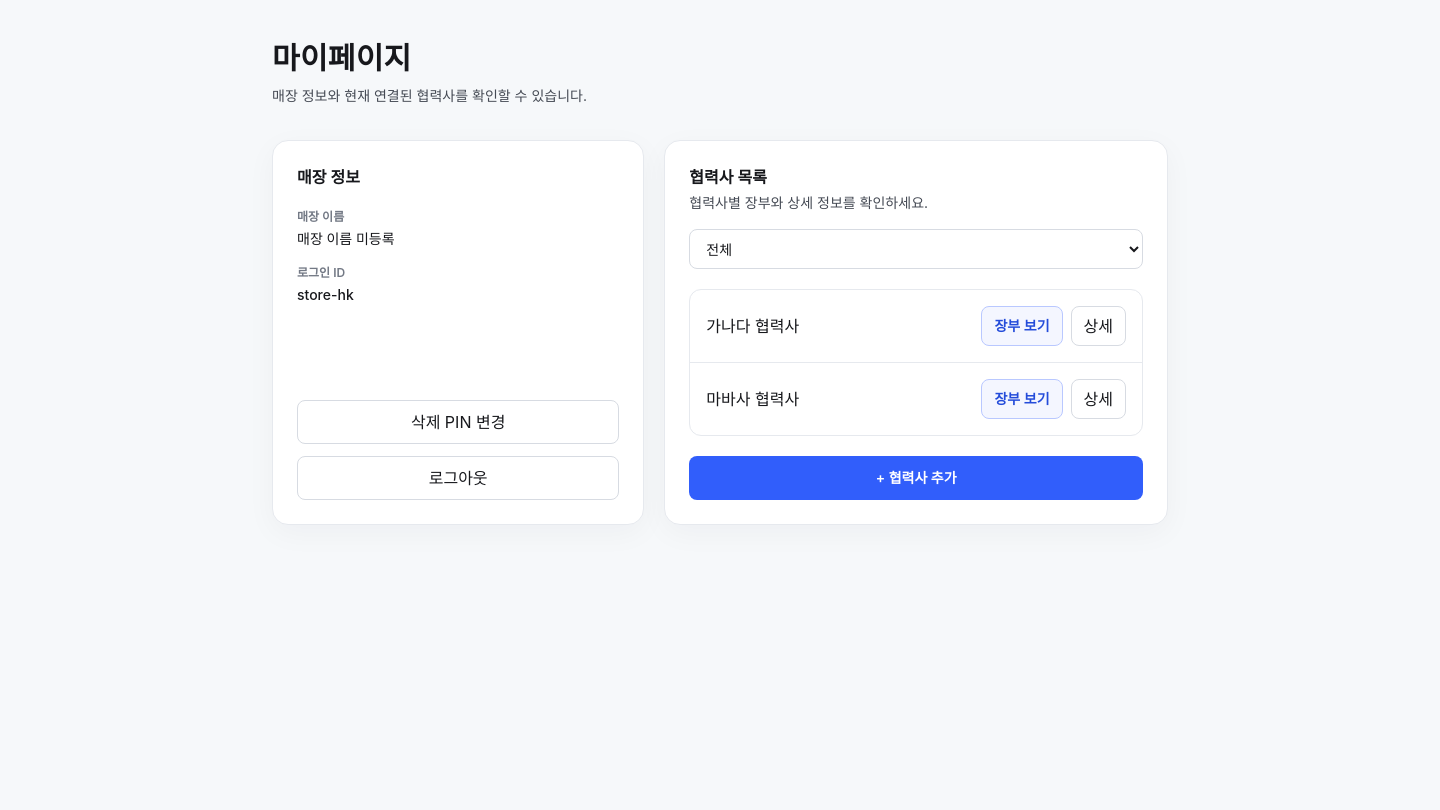
Test case: StoreProfileView › keeps cards to ledger and detail actions, then opens contact details in one modal
This screenshot has width=1440, height=810.
Expected: the text "매장 이름 미등록" is shown, [297,230,395,247]
Expected: the text "store-hk" is shown, [297,286,354,303]
Click the button "삭제 PIN 변경". click: coordinates (458, 422)
box: [297,400,619,444]
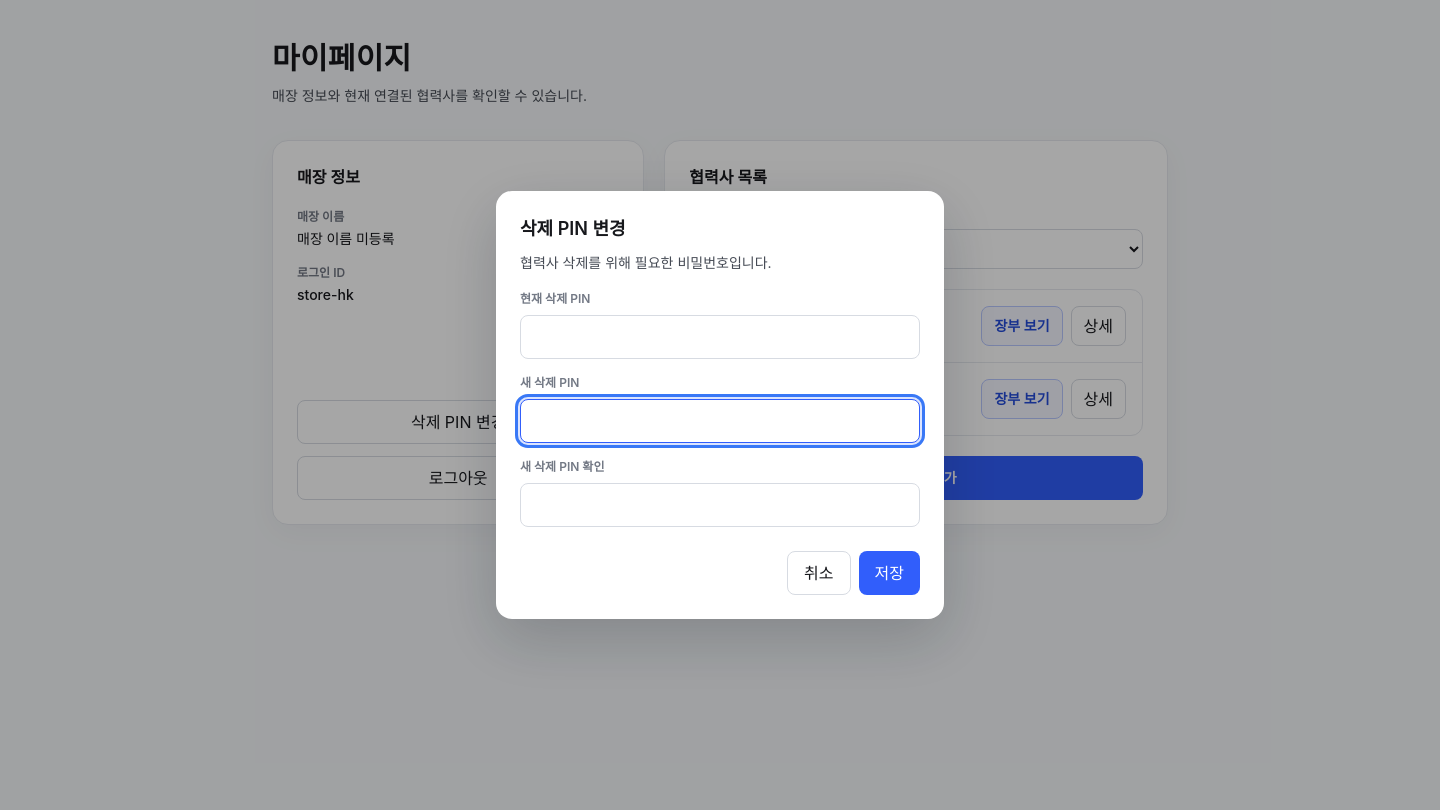
Expected: the dialog "삭제 PIN 변경" shows "협력사 삭제를 위해 필요한 비밀번호입니다.", [520,254,772,271]
Click the button "취소". click: coordinates (819, 573)
box: [787,551,851,595]
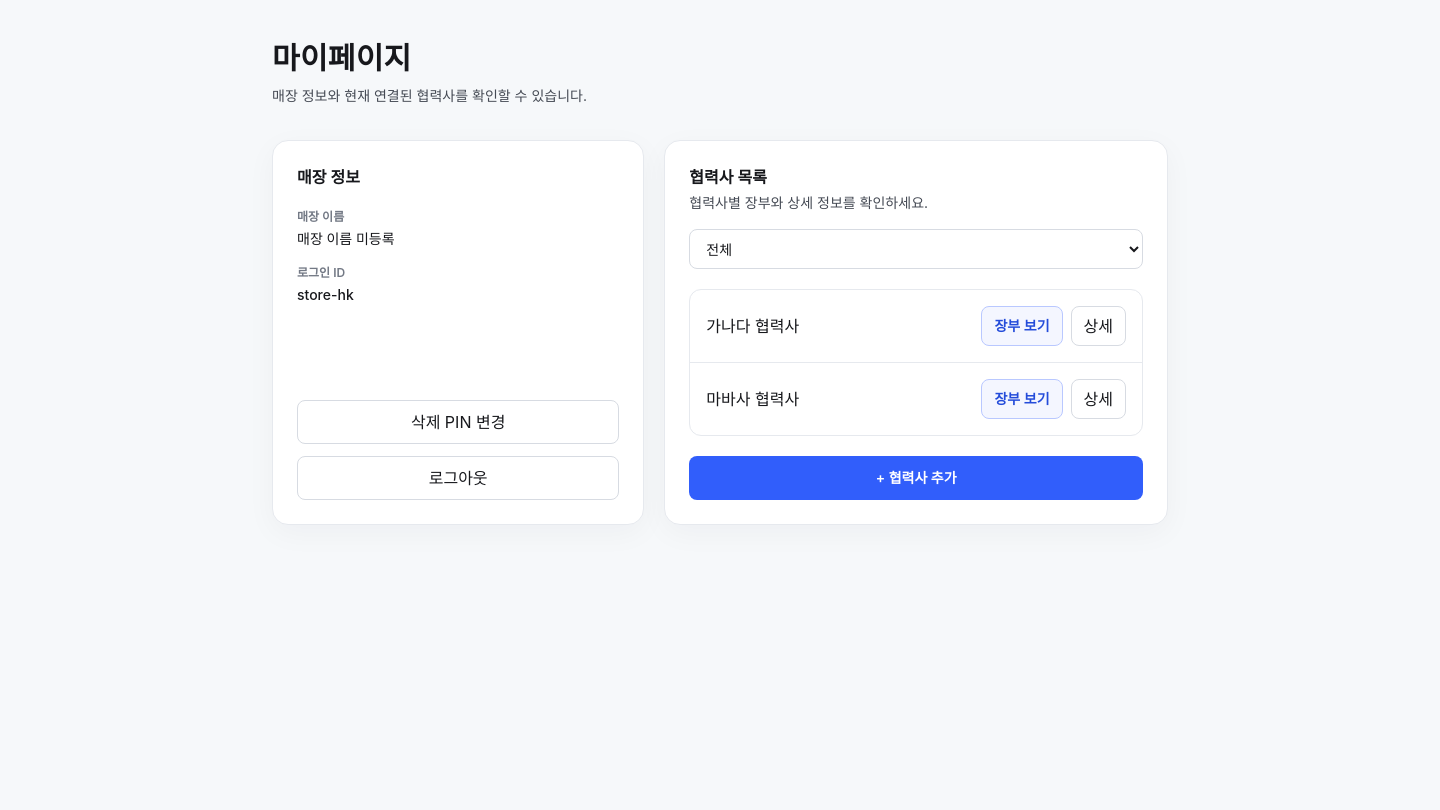
Expected: the dialog is gone
Click the button "가나다 협력사". click: coordinates (753, 326)
box: [706,314,799,338]
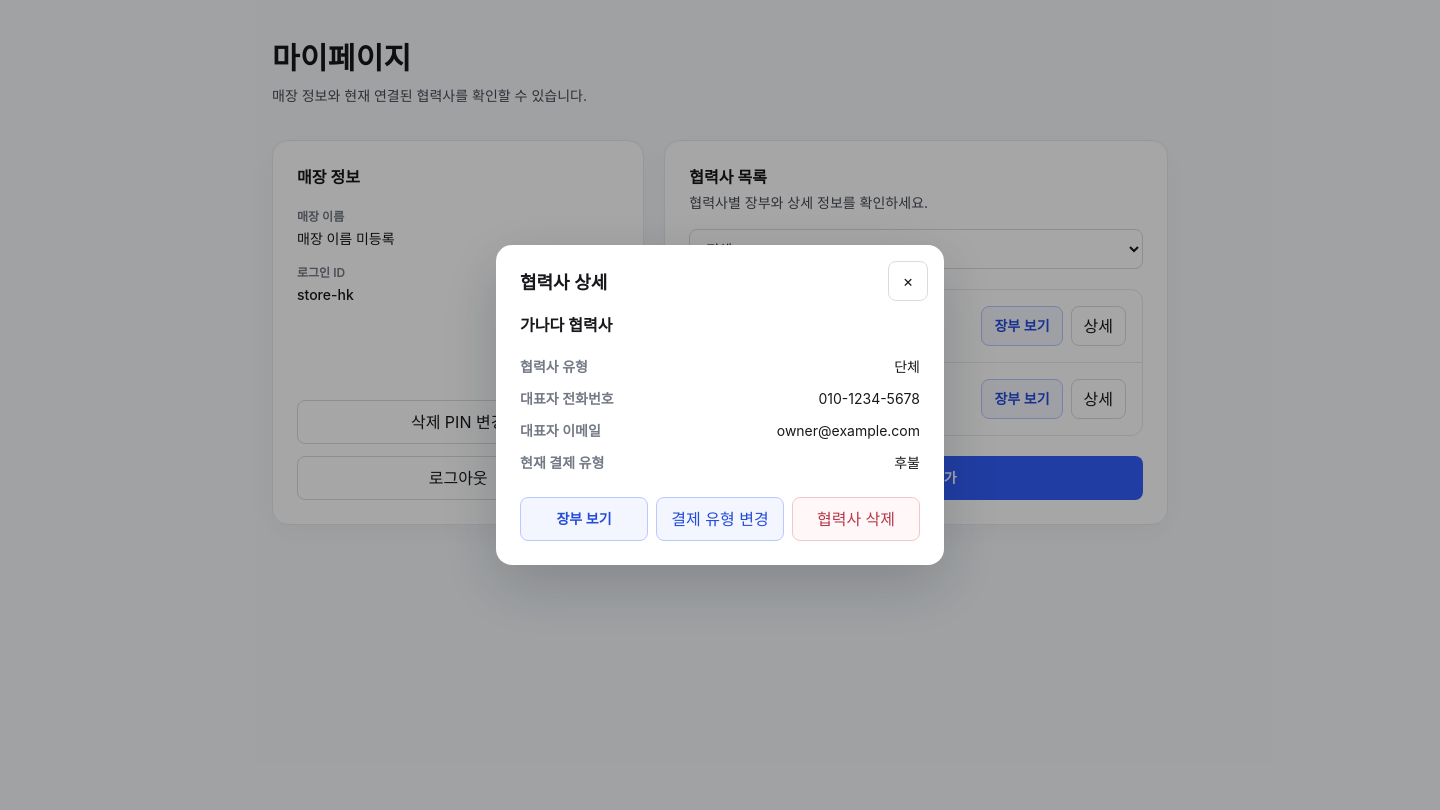
Expected: the dialog "협력사 상세" shows "가나다 협력사", [520,315,612,335]
Expected: the dialog "협력사 상세" shows "단체", [894,358,920,375]
Expected: the dialog "협력사 상세" shows "010-1234-5678", [818,390,920,407]
Click the button named "닫기". click: coordinates (908, 281)
box: [888,261,928,301]
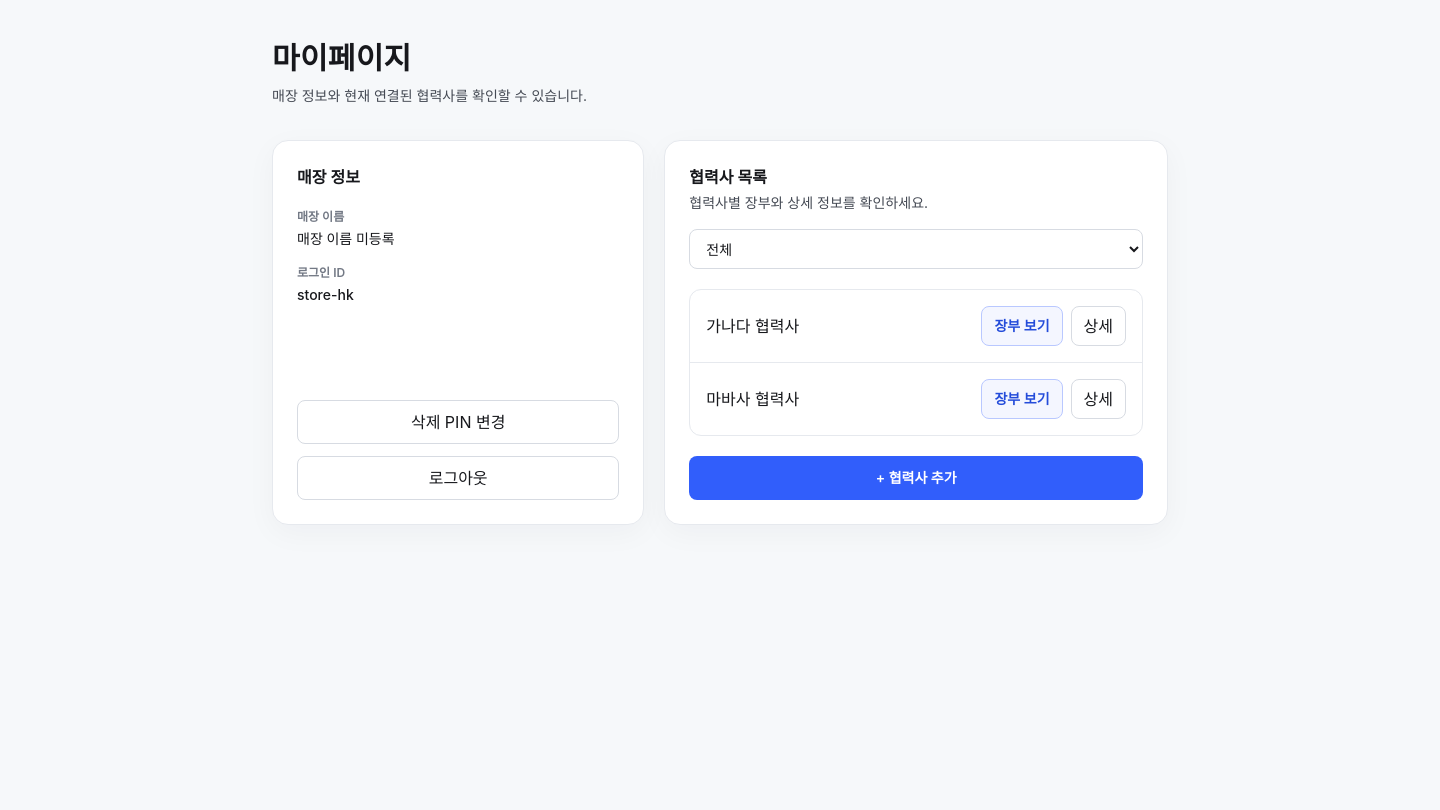
Expected: the dialog is gone
Click the 2nd button "상세". click: coordinates (1098, 399)
box: [1070,379,1126,419]
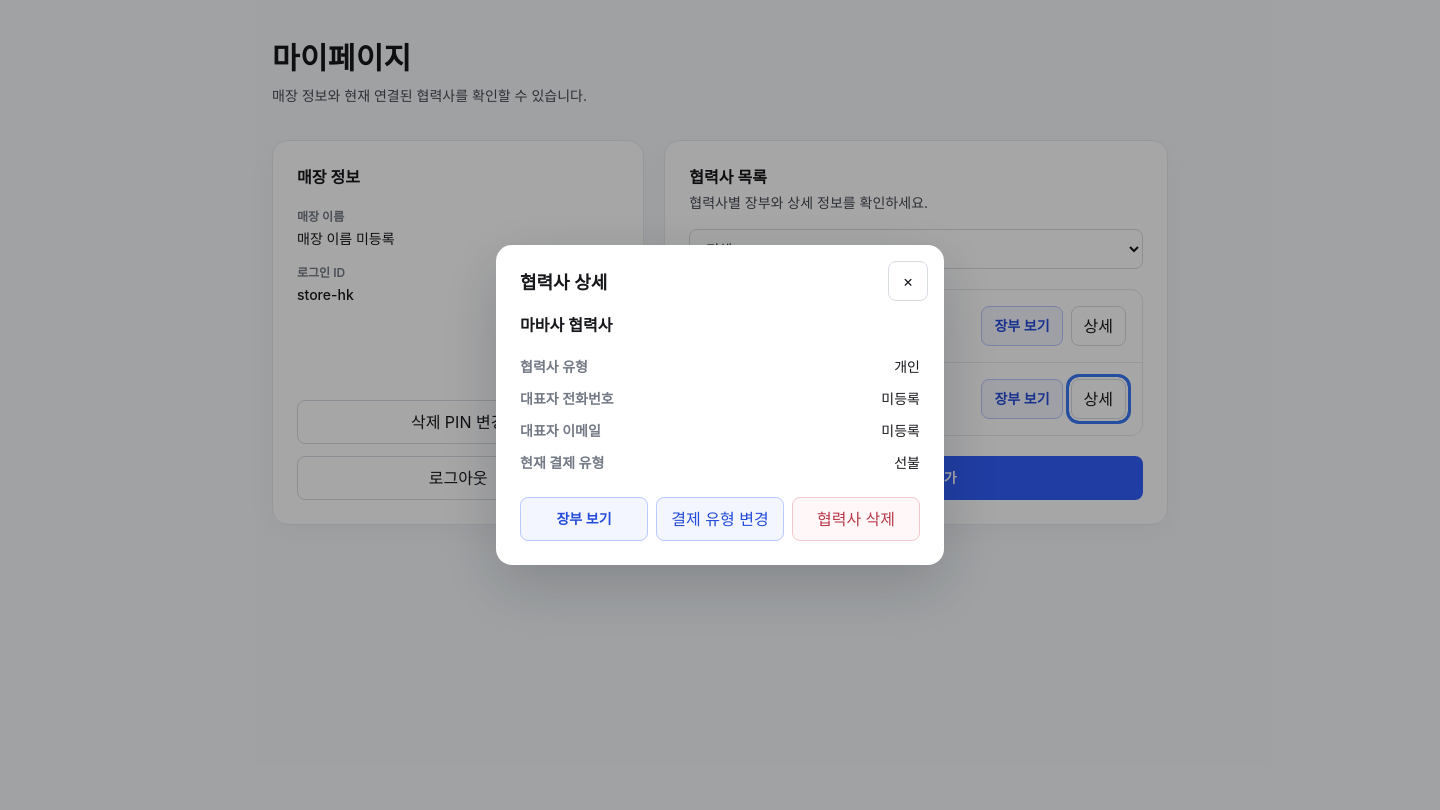
Expected: the text "미등록" is shown 2 times, [881,389,920,409]; [881,421,920,441]
Expected: the dialog "협력사 상세" shows "개인", [894,358,920,375]
Expected: the dialog "협력사 상세" shows "선불", [894,454,920,471]
